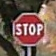stop: (11, 11, 46, 45)
